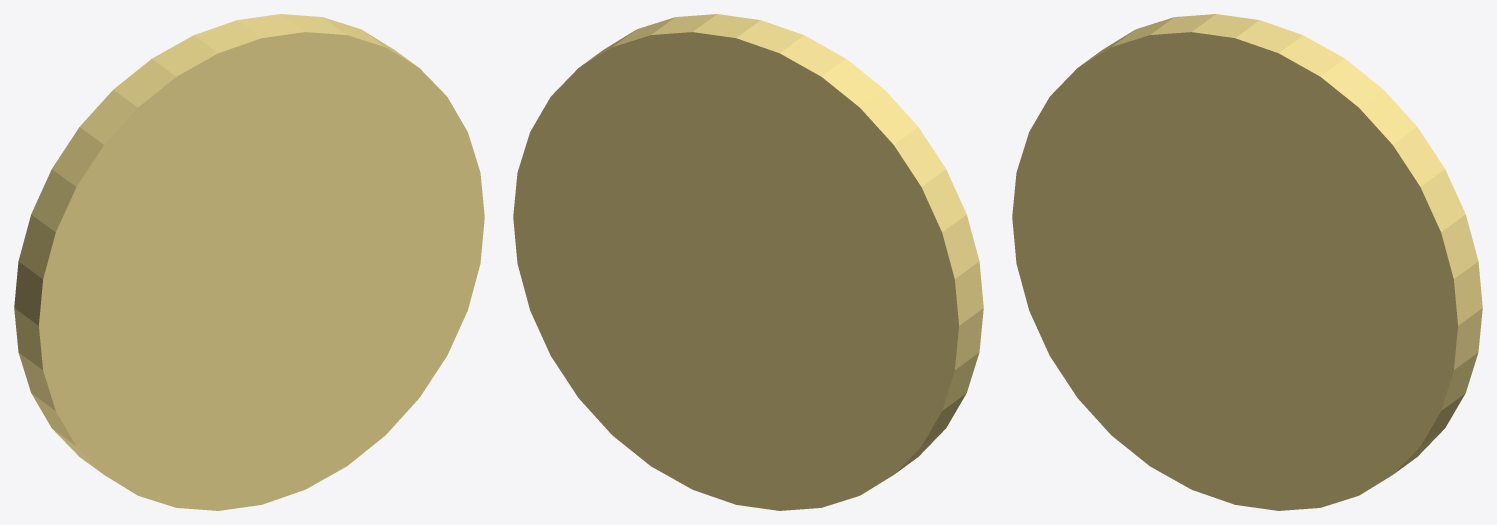
File: Moneta.fbx
3 views of the same model, side by side, from view 1: azimuth 30°, elevation 25°; view 2: azimuth 150°, elevation 25°; view 3: azimuth 330°, elevation 25° (orthographic).
Visible parts, largest first — view 1: Coin_Cabinato; view 2: Coin_Cabinato; view 3: Coin_Cabinato.
Boxes of the visible parts, x1=… form: Coin_Cabinato: x1=14, y1=14, x2=484, y2=510; Coin_Cabinato: x1=513, y1=14, x2=983, y2=510; Coin_Cabinato: x1=1012, y1=14, x2=1482, y2=510.
Bounding box in the file's own units: 2.56 × 2.56 × 0.2451.
